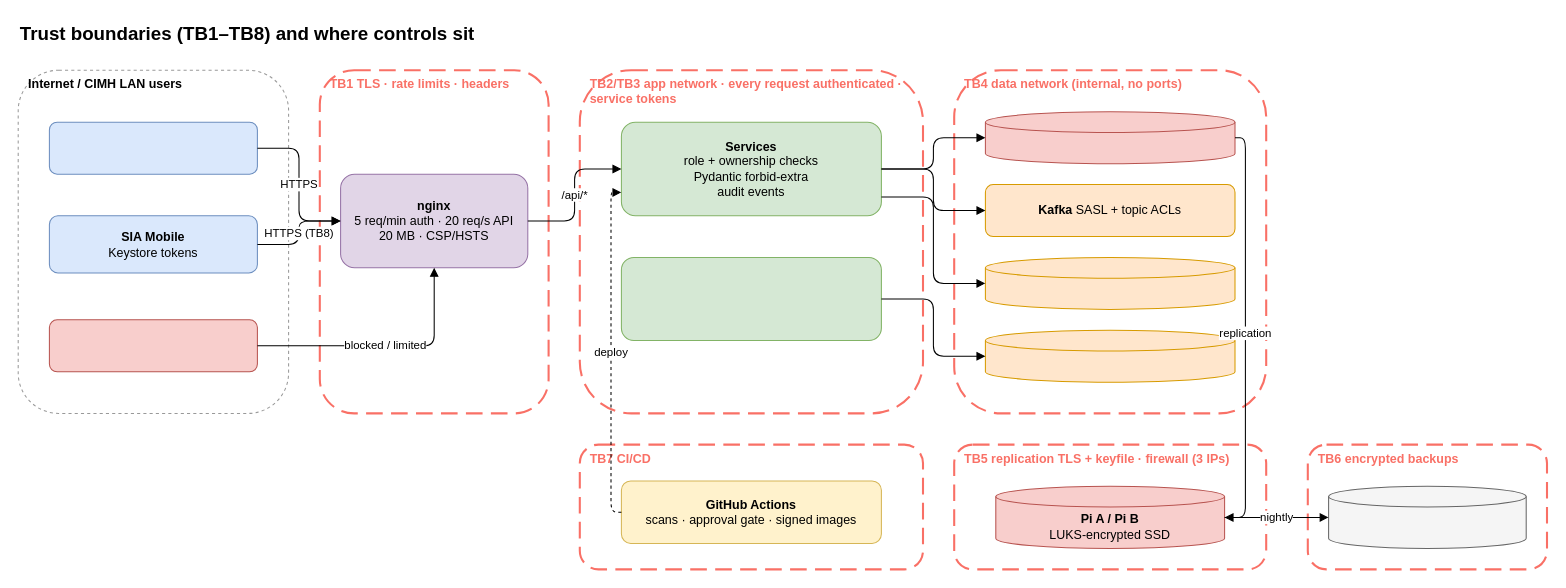
Image size: 1566x588. Some labels were removed from this diagram. Here are the shapes that lost their labels. From the top down, the centre of each, then its label:
(x=152, y=147): SHOP / SIA browsers
(x=1109, y=137): MongoDB per-service users
(x=750, y=298): document-svc magic bytes · ClamAV X-Accel after permission check
(x=1109, y=282): Redis ACL · revocations
(x=152, y=345): Attacker / bots
(x=1109, y=355): /srv/sia-data protected files
(x=1427, y=517): Other CIMH site restic (append-only)
